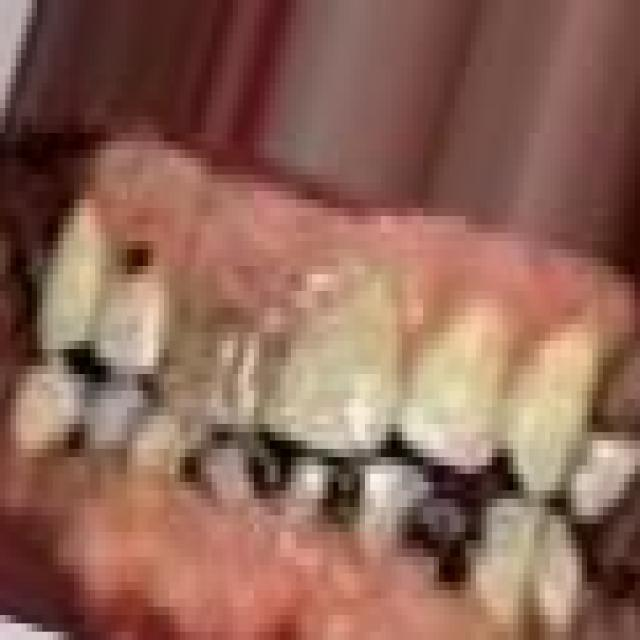caries: (388, 469, 488, 583), (202, 418, 296, 532), (294, 438, 374, 550), (105, 210, 164, 304)
